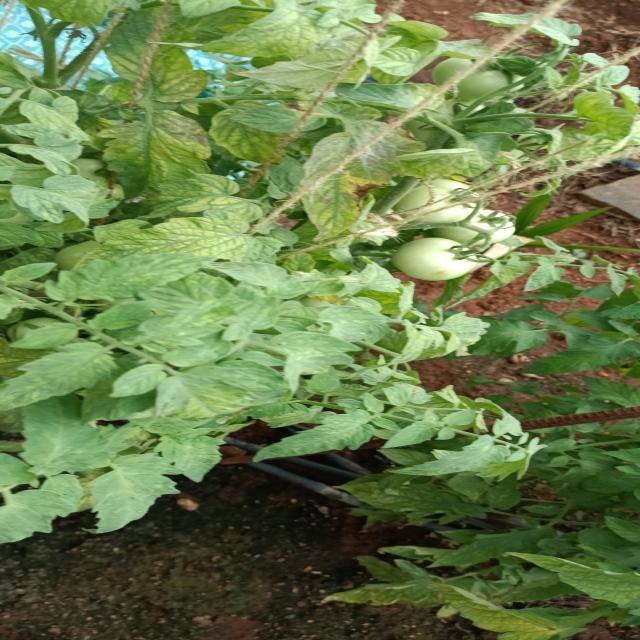Healthy Leaf: (46, 250, 216, 305), (80, 448, 177, 537), (3, 339, 118, 409), (508, 326, 640, 385), (254, 415, 383, 465), (399, 441, 506, 483), (202, 255, 292, 296), (420, 312, 504, 354), (1, 187, 70, 228), (300, 369, 345, 398)
